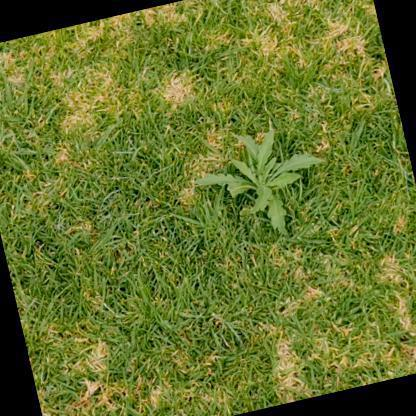Weeds: (186, 116, 337, 253)
